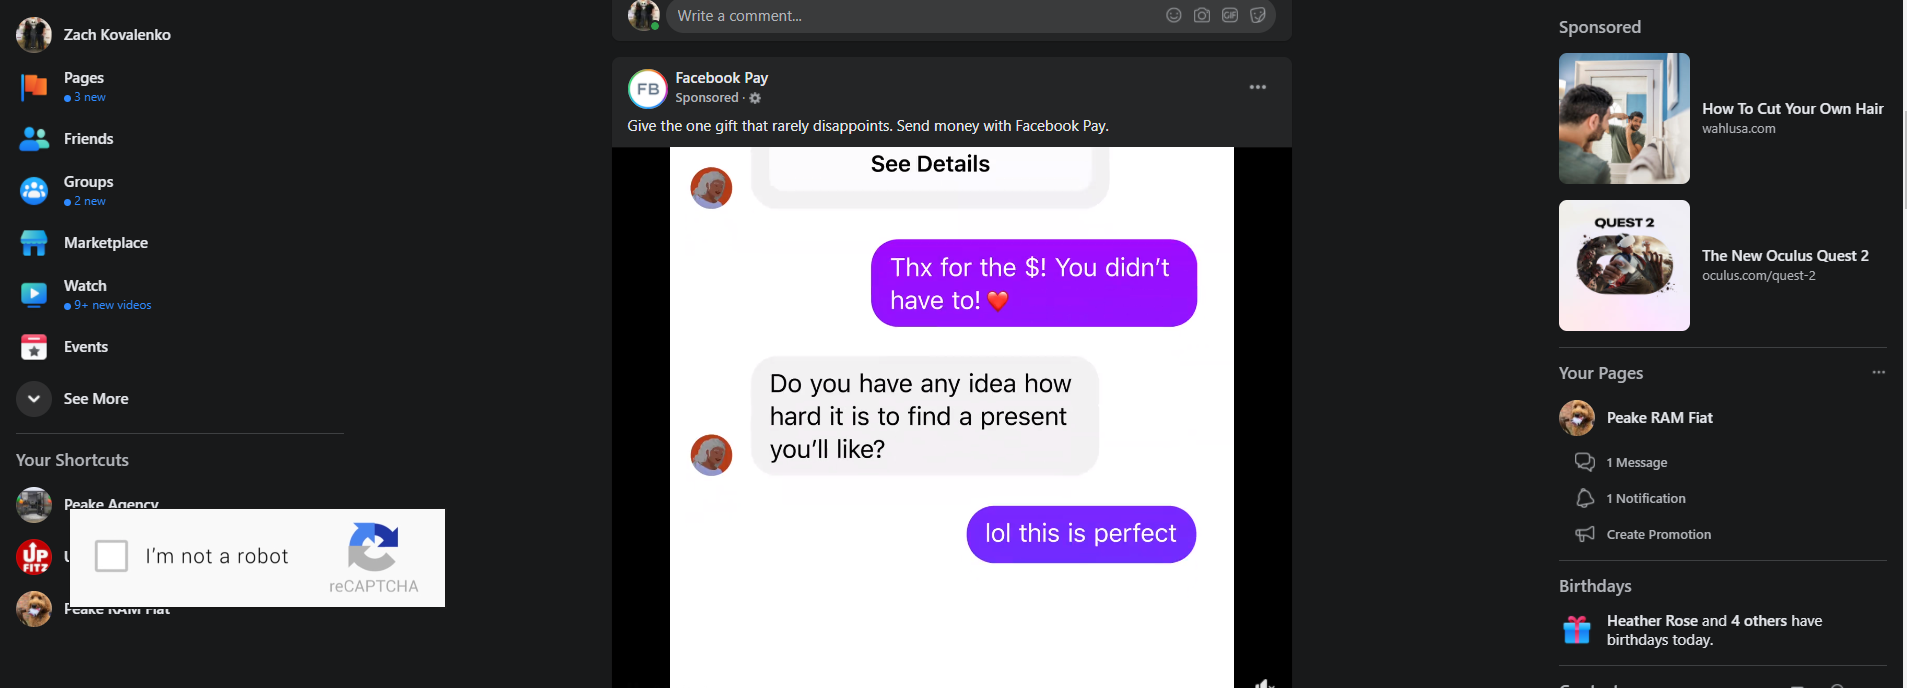captcha: (69, 508, 443, 607)
